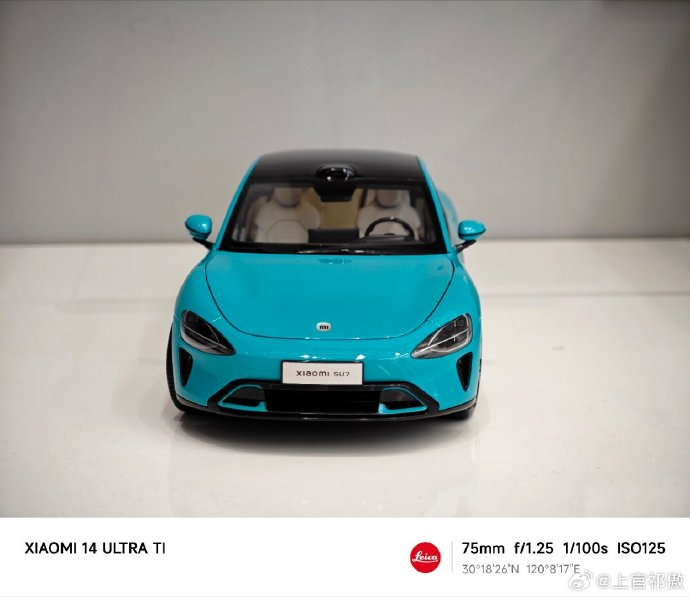su7: (157, 133, 481, 434)
